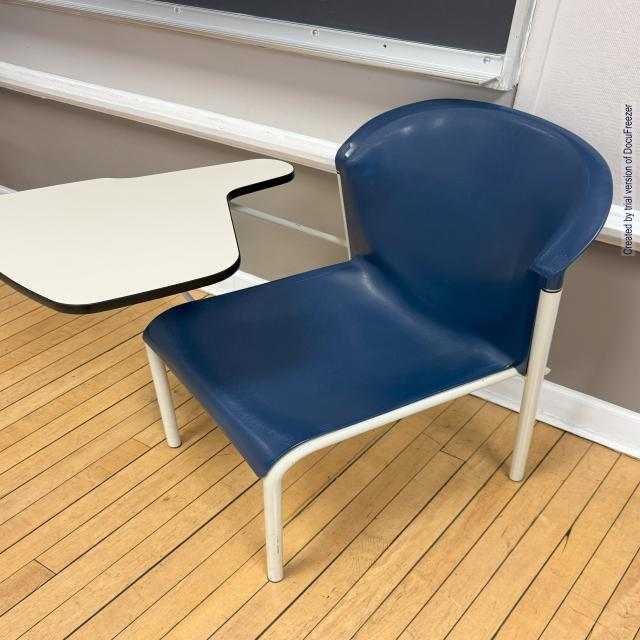chair: (8, 62, 602, 579)
